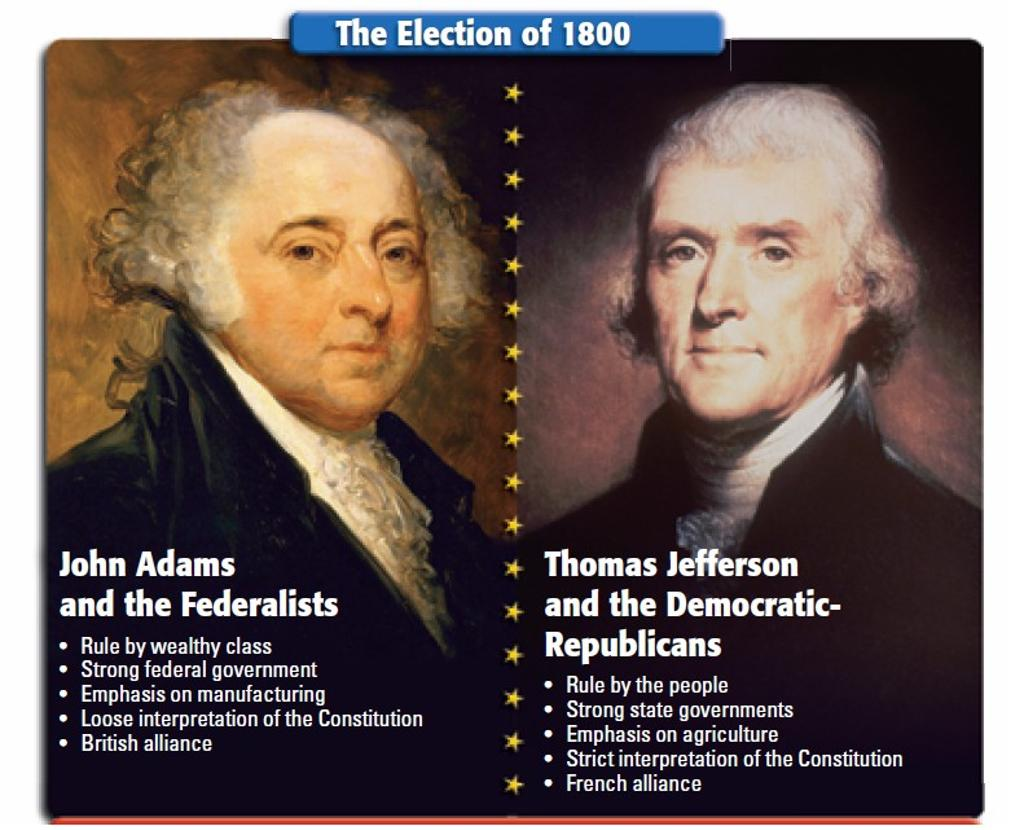face: (246, 156, 440, 422), (648, 156, 842, 416)
